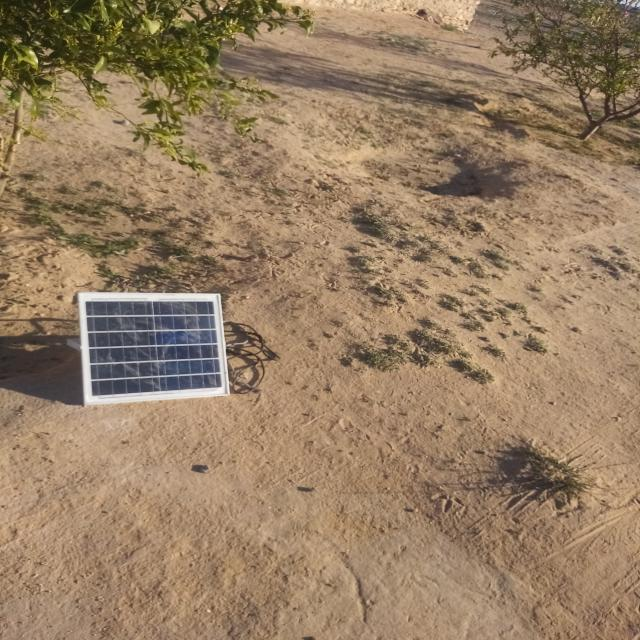faulty: (79, 293, 229, 403)
